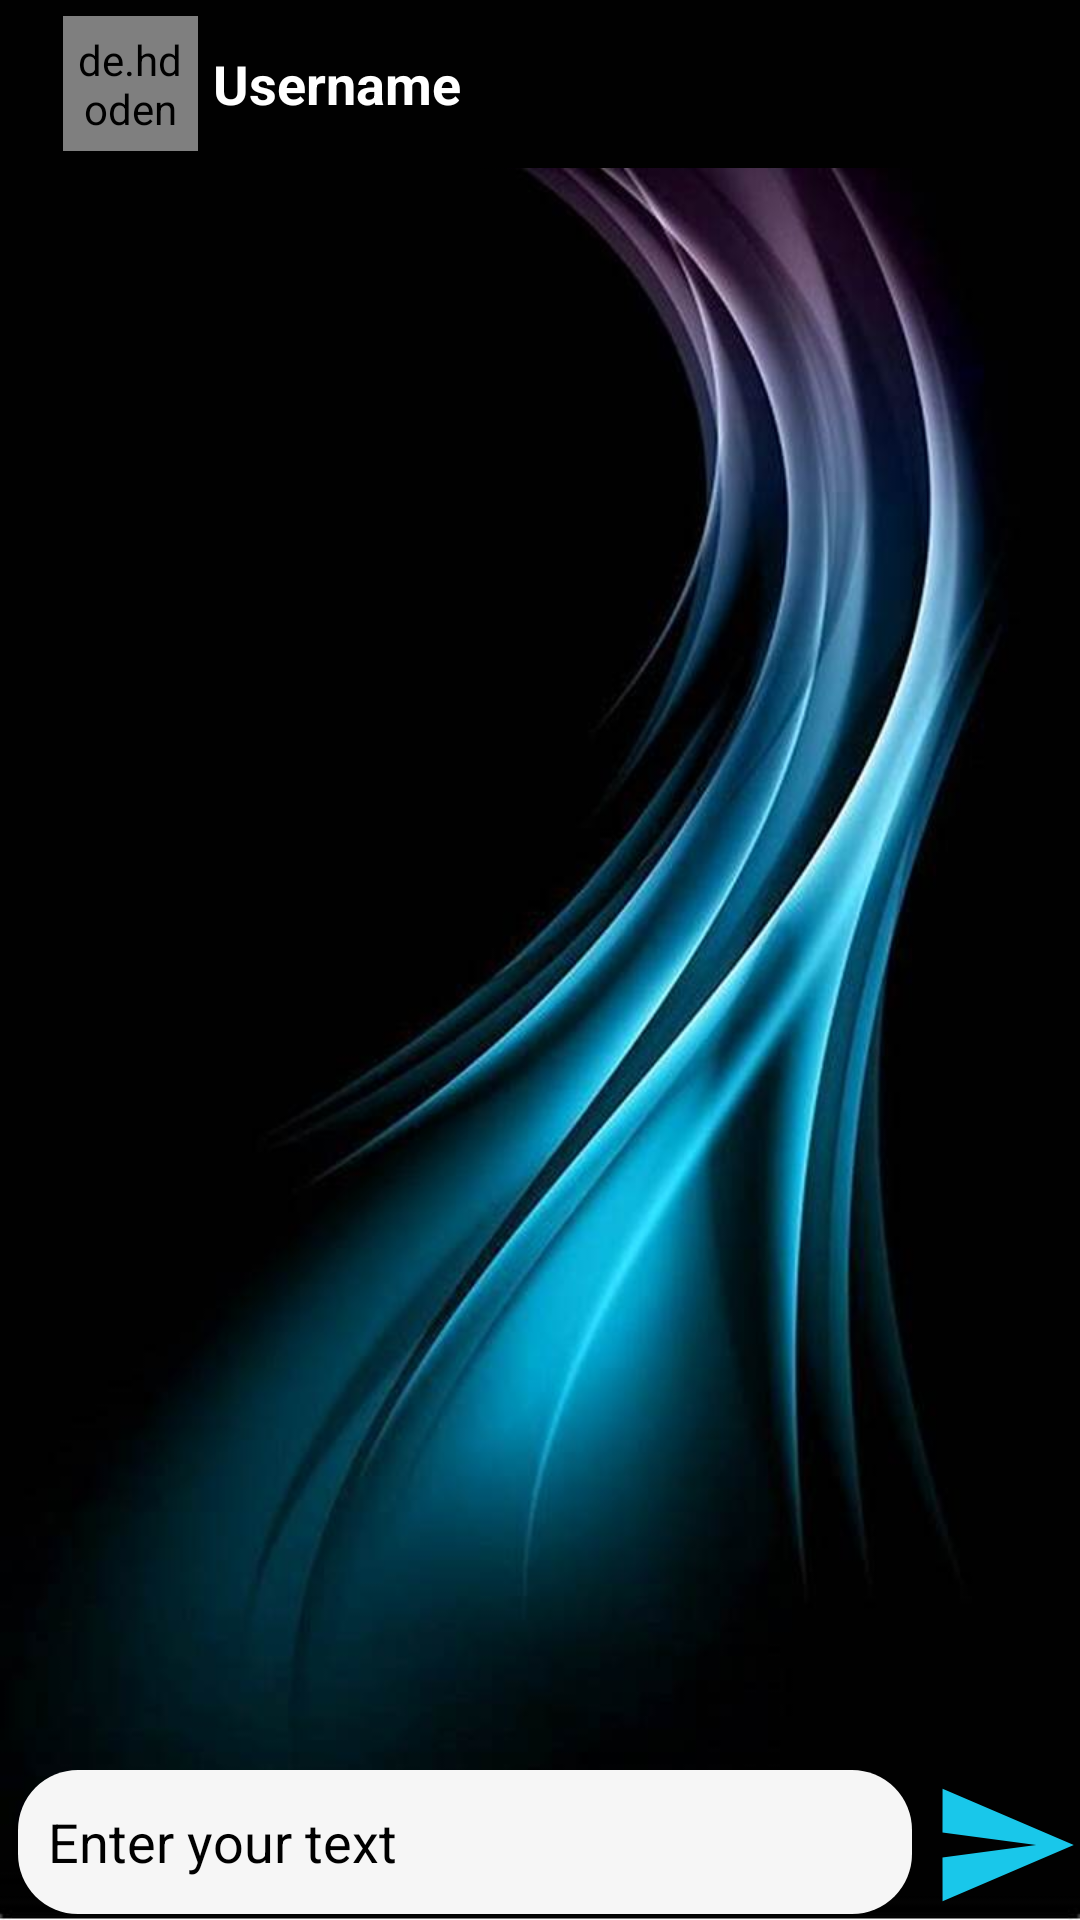

Point at icon controls on the screen. Image size 1080*1920, points as (x,y).
send: (1008,1845)
